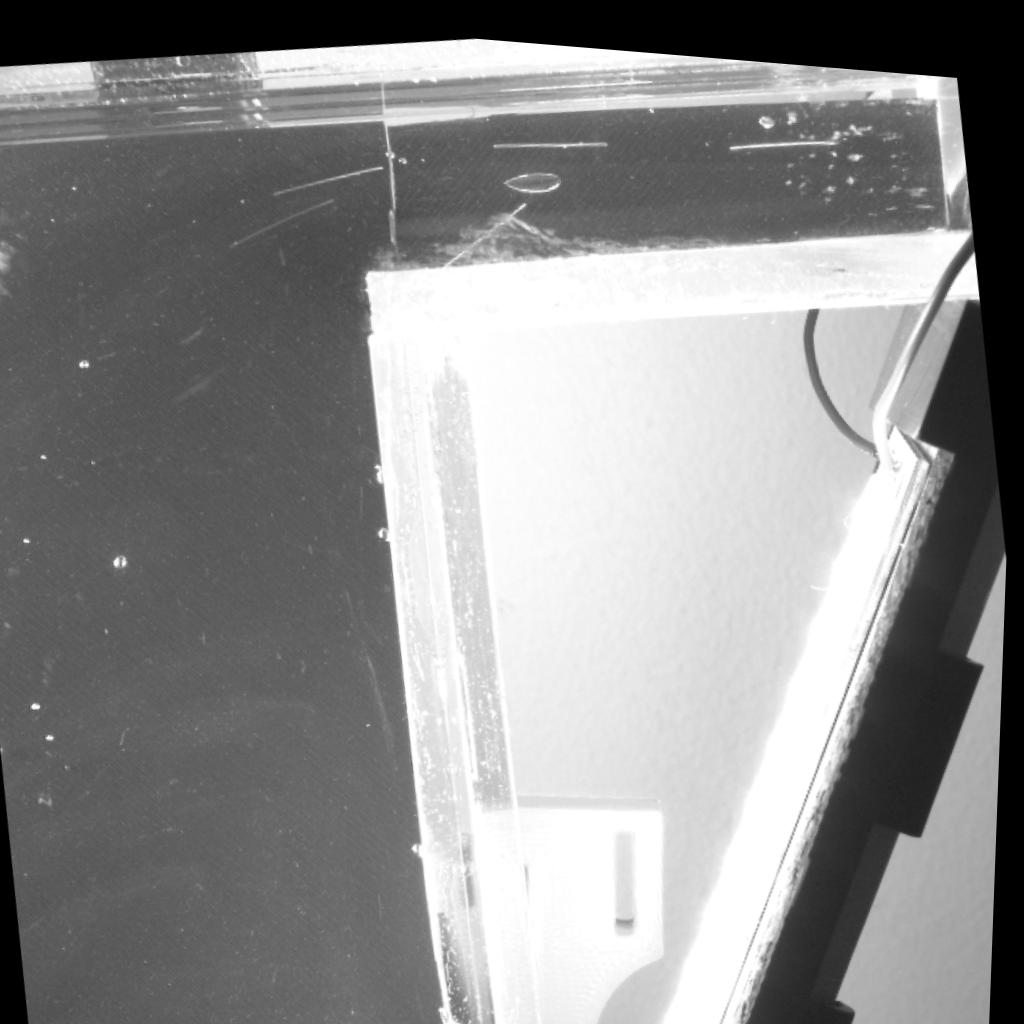Fiber: (437, 193, 533, 267), (227, 190, 335, 243), (273, 158, 385, 193), (497, 130, 615, 143), (731, 127, 839, 138)
